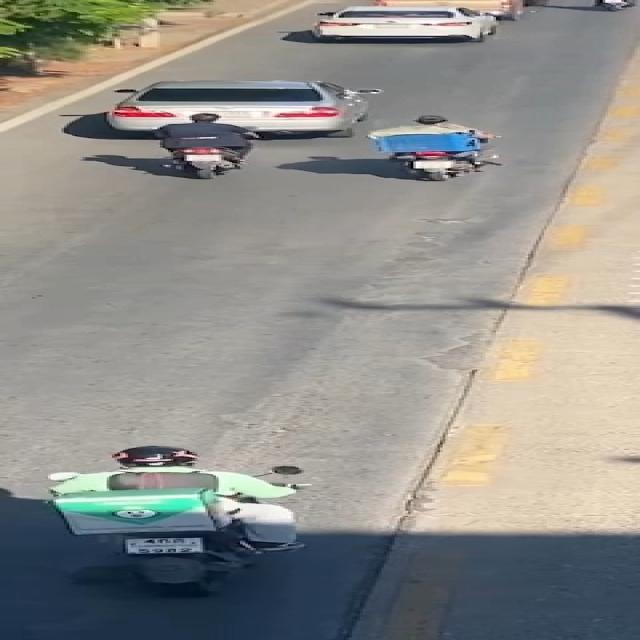car: (92, 74, 374, 141), (301, 3, 522, 42)
